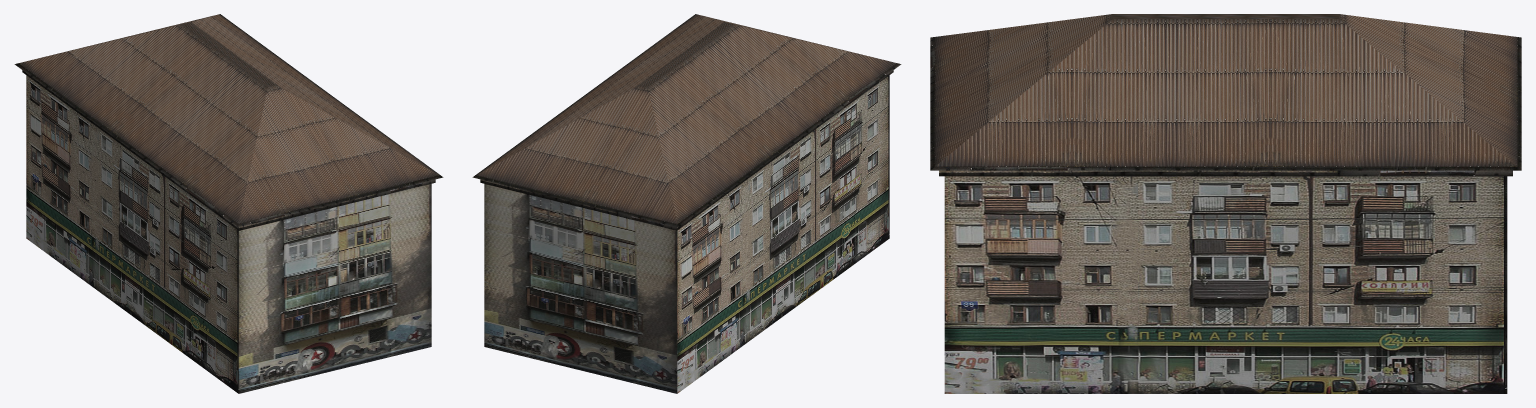
The model's file is sibir_dom_5et1.FBX.
3 renders of one model, left to right at view 1: azimuth 30°, elevation 25°; view 2: azimuth 150°, elevation 25°; view 3: azimuth 270°, elevation 25°, orthographic. The views are drawn at different scales.
Parts seen in each view (by area): view 1: sibir_dom_5et1; view 2: sibir_dom_5et1; view 3: sibir_dom_5et1.
Boxes of the visible parts, bbox=[...] form: sibir_dom_5et1: bbox=[14, 14, 443, 393]; sibir_dom_5et1: bbox=[472, 14, 901, 393]; sibir_dom_5et1: bbox=[930, 14, 1521, 393].
Bounding box in the file's own units: 10.27 × 19.29 × 11.34.
